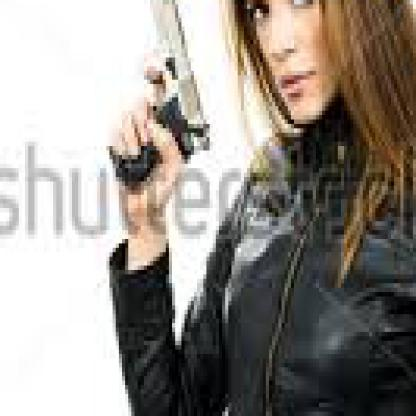gun: (100, 0, 222, 208)
